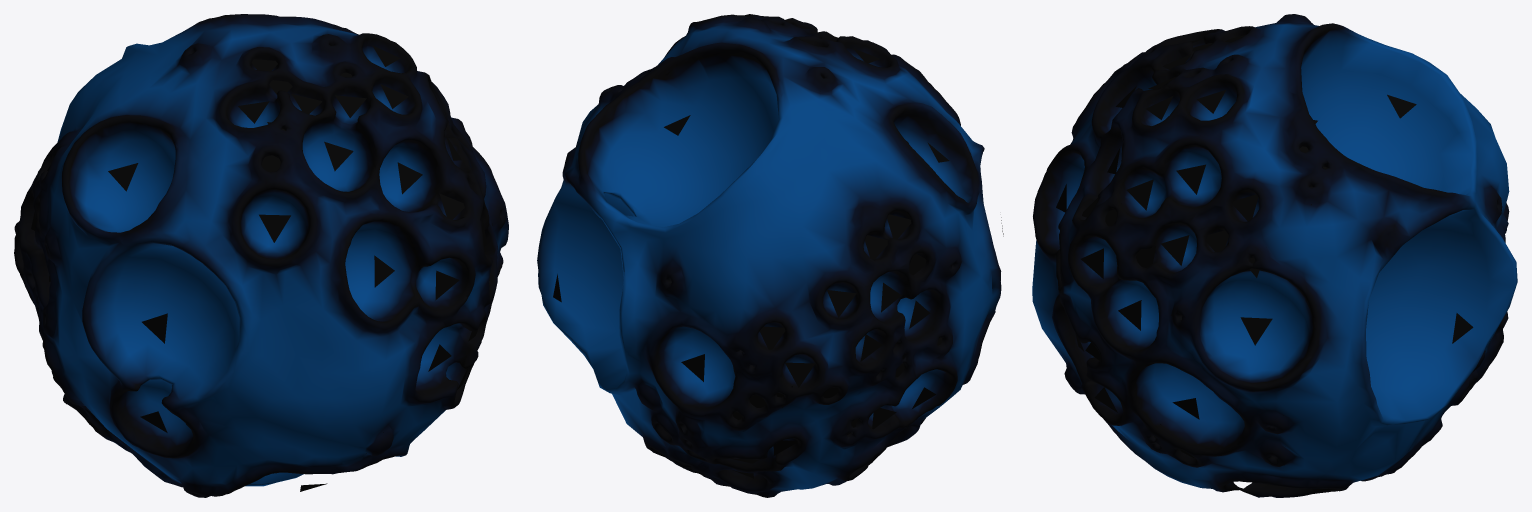
File: ST_Eye_Monster.fbx
3 views of the same model, side by side, from view 1: azimuth 30°, elevation 25°; view 2: azimuth 150°, elevation 25°; view 3: azimuth 270°, elevation 25° (orthographic). The views are drawn at different scales.
Visible parts, largest first — view 1: EYE_Monster; view 2: EYE_Monster; view 3: EYE_Monster.
Boxes of the visible parts, <box> form: EYE_Monster: <box>14,14,508,497</box>; EYE_Monster: <box>537,14,1003,497</box>; EYE_Monster: <box>1032,14,1517,497</box>.
Size of the model in its own units: 1.05 by 1.07 by 1.04.
